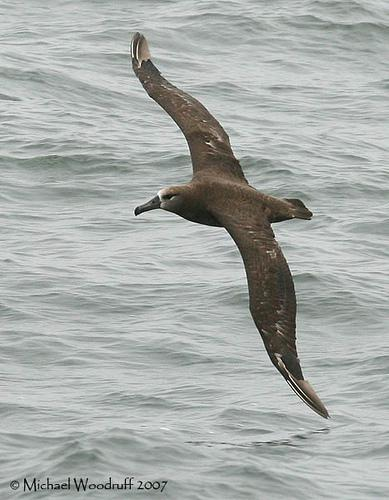001.Black_footed_Albatross: (128, 34, 329, 420)
